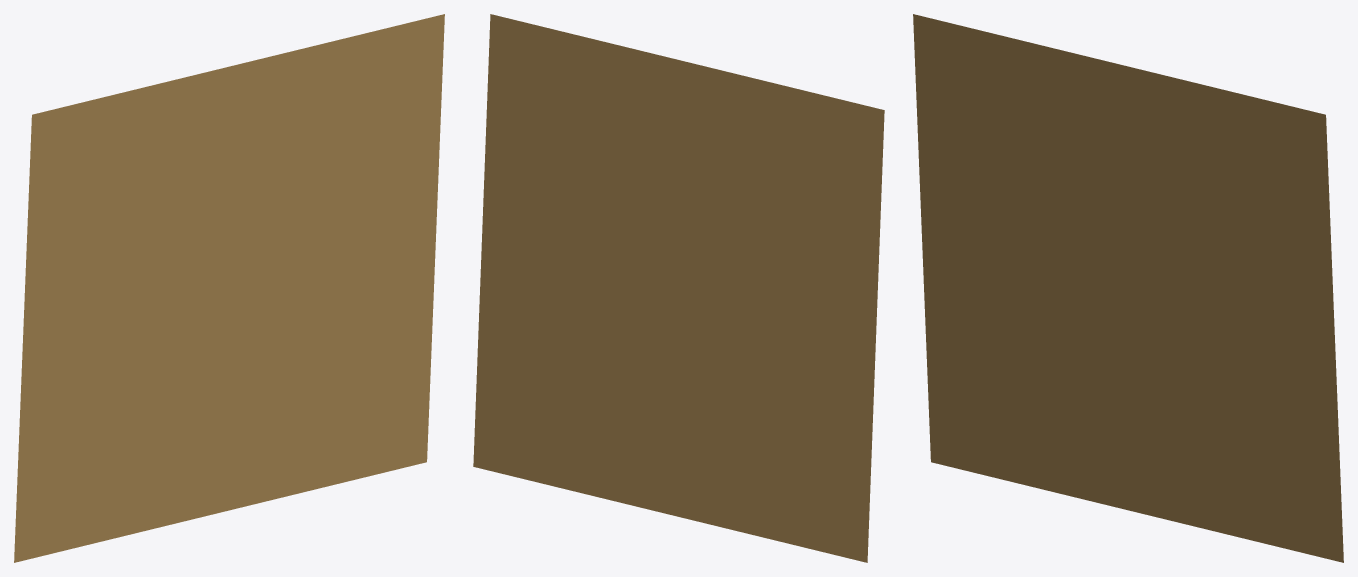
The model's file is pbr_morph_sparse.gltf.
The picture shows the model from 3 angles, left to right: view 1: azimuth 30°, elevation 25°; view 2: azimuth 150°, elevation 25°; view 3: azimuth 330°, elevation 25°; orthographic projection. The views are drawn at different scales.
Visible parts, largest first — view 1: Morph; view 2: Morph; view 3: Morph.
Part boxes in pixels (<box>): Morph: <box>14,14,444,562</box>; Morph: <box>473,14,884,562</box>; Morph: <box>913,14,1343,562</box>.
Size of the model in its own units: 2 by 2.13 by 0.15.
